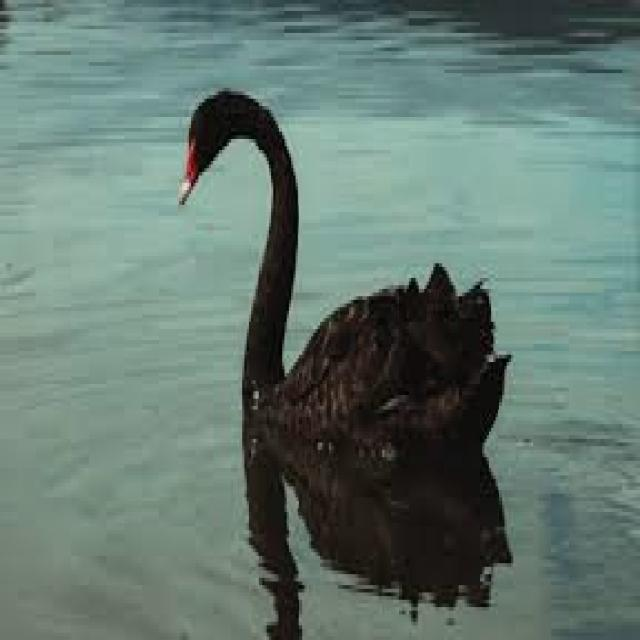swan: (182, 91, 511, 457)
